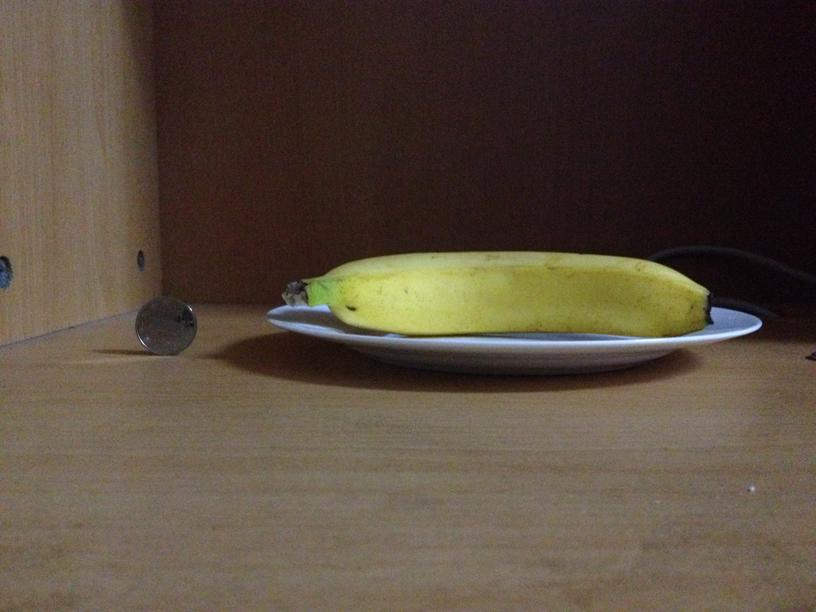banana: (307, 255, 709, 336)
coin: (130, 295, 198, 354)
